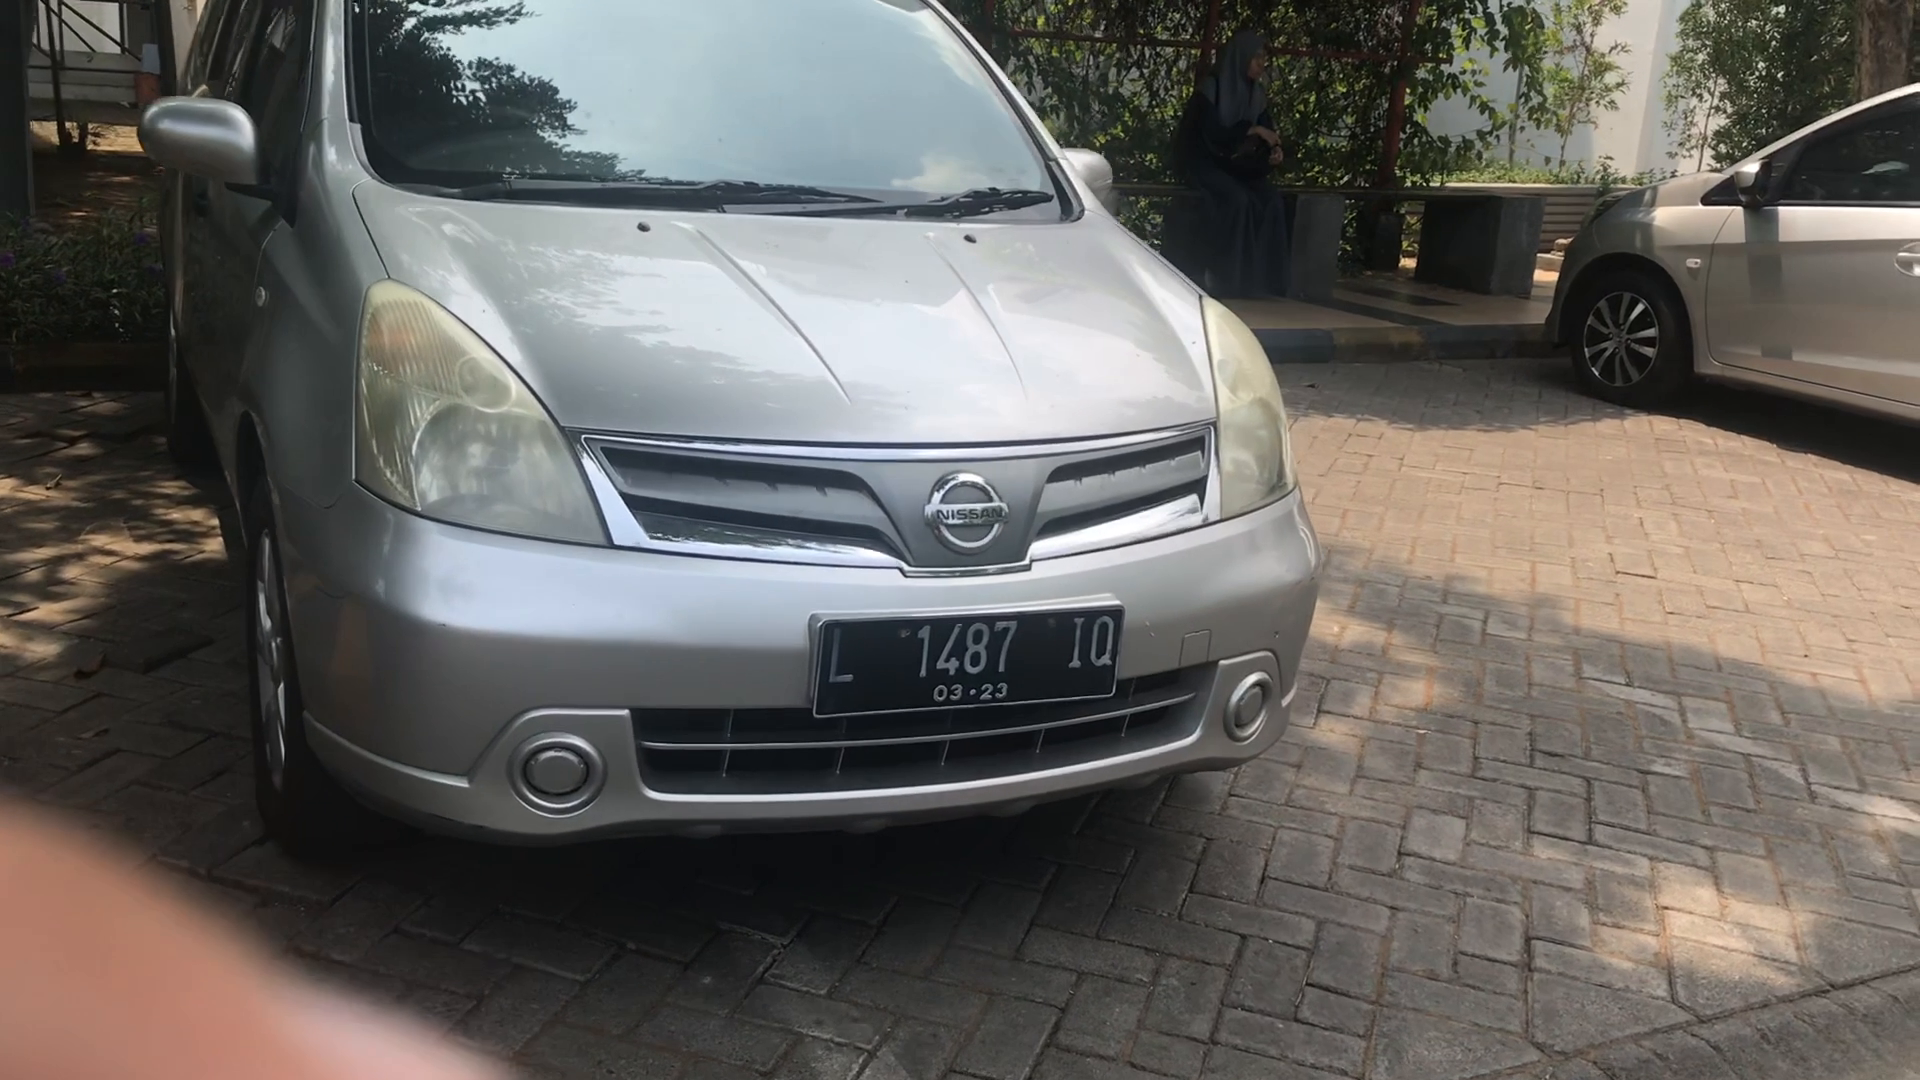plate: (820, 612, 1122, 707)
